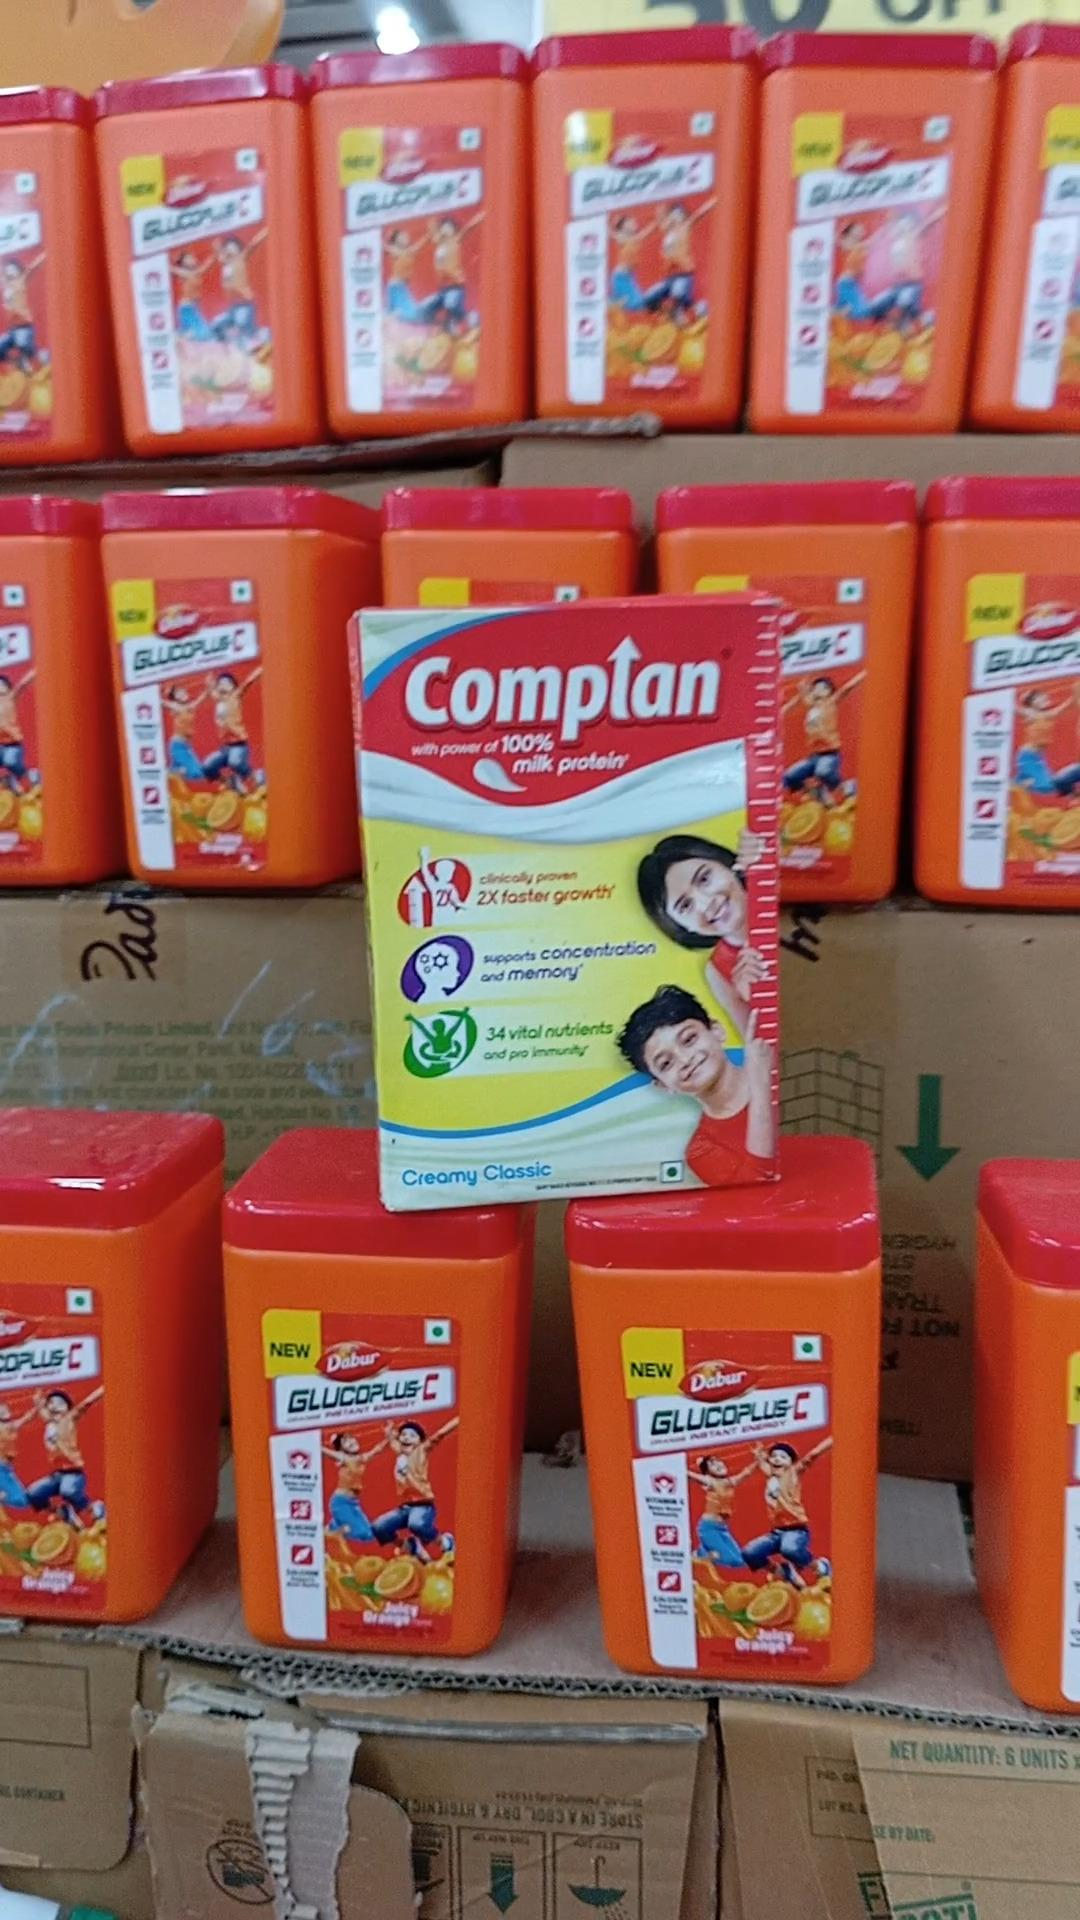COMPLAN_CREAMY_CLASSIC_500_G_PACK: (369, 597, 777, 1183)
